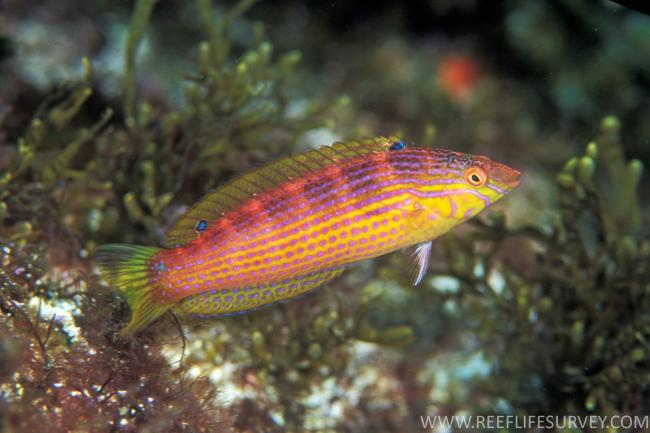fish: (91, 135, 523, 340)
